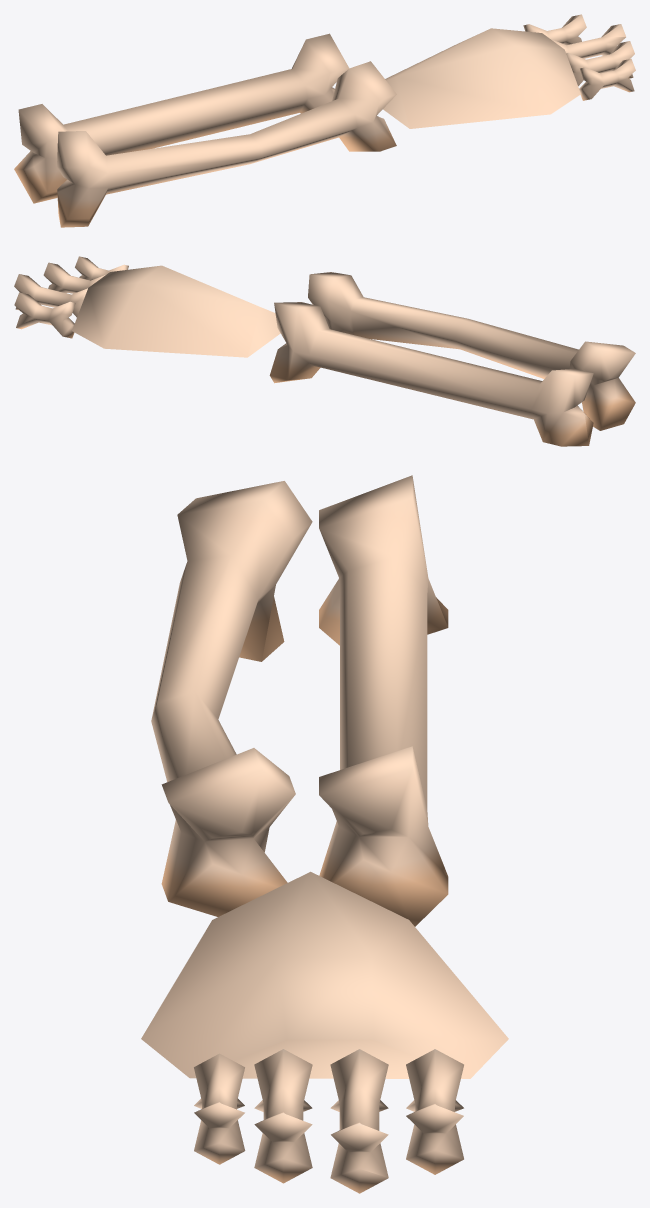
Rendered from Bone_1_color_2.FBX.
3 views of the same model, one above another, from view 1: azimuth 30°, elevation 25°; view 2: azimuth 150°, elevation 25°; view 3: azimuth 270°, elevation 25° (orthographic). The views are drawn at different scales.
Parts seen in each view (by area): view 1: Bone; view 2: Bone; view 3: Bone.
Boxes of the visible parts, x1,y1,x2,y2 form: Bone: (14, 14, 635, 227); Bone: (14, 256, 635, 446); Bone: (141, 475, 508, 1193).
Size of the model in its own units: 1.44 by 0.1981 by 0.3977.
